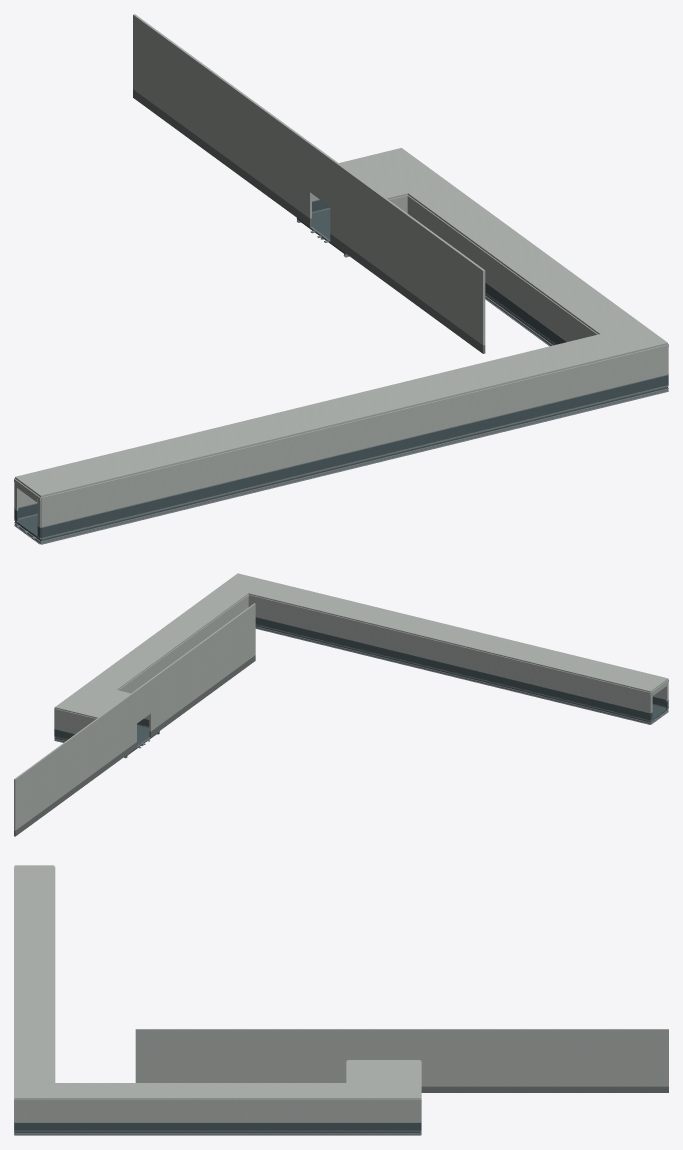
The model's file is ORCHARD_SERVICE_GATEWAY_r002.glb.
3 renders of one model, top to bottom at view 1: azimuth 30°, elevation 25°; view 2: azimuth 150°, elevation 25°; view 3: azimuth 270°, elevation 25°, orthographic. The views are drawn at different scales.
Visible parts, largest first — view 1: ORX_BATCH_001, ORCH_PerimeterWall_1_ORCHARD_SERVICE_GATEWAY, ORX_BATCH_000, ORX_BATCH_002, ORCH_PerimeterDado_1_ORCHARD_SERVICE_GATEWAY; view 2: ORX_BATCH_001, ORCH_PerimeterWall_1_ORCHARD_SERVICE_GATEWAY, ORX_BATCH_000, ORX_BATCH_002, ORCH_PerimeterDado_1_ORCHARD_SERVICE_GATEWAY; view 3: ORCH_PerimeterWall_1_ORCHARD_SERVICE_GATEWAY, ORX_BATCH_001, ORX_BATCH_000, ORX_BATCH_002, ORCH_PerimeterDado_1_ORCHARD_SERVICE_GATEWAY.
Boxes of the visible parts, x1,y1,x2,y2 form: ORX_BATCH_001: (14,148,668,527); ORCH_PerimeterWall_1_ORCHARD_SERVICE_GATEWAY: (133,14,485,345); ORX_BATCH_000: (14,200,668,541); ORX_BATCH_002: (14,199,668,544); ORCH_PerimeterDado_1_ORCHARD_SERVICE_GATEWAY: (133,89,485,353); ORX_BATCH_001: (54,573,668,733); ORCH_PerimeterWall_1_ORCHARD_SERVICE_GATEWAY: (14,603,255,830); ORX_BATCH_000: (54,617,668,755); ORX_BATCH_002: (54,617,668,758); ORCH_PerimeterDado_1_ORCHARD_SERVICE_GATEWAY: (14,655,255,836); ORCH_PerimeterWall_1_ORCHARD_SERVICE_GATEWAY: (135,1029,668,1086); ORX_BATCH_001: (14,865,421,1122); ORX_BATCH_000: (14,1123,421,1132); ORX_BATCH_002: (14,1102,421,1135); ORCH_PerimeterDado_1_ORCHARD_SERVICE_GATEWAY: (421,1086,668,1092).
Bounding box in the file's own units: 60.39 × 8.06 × 71.24.
6 materials, 5 textured.
